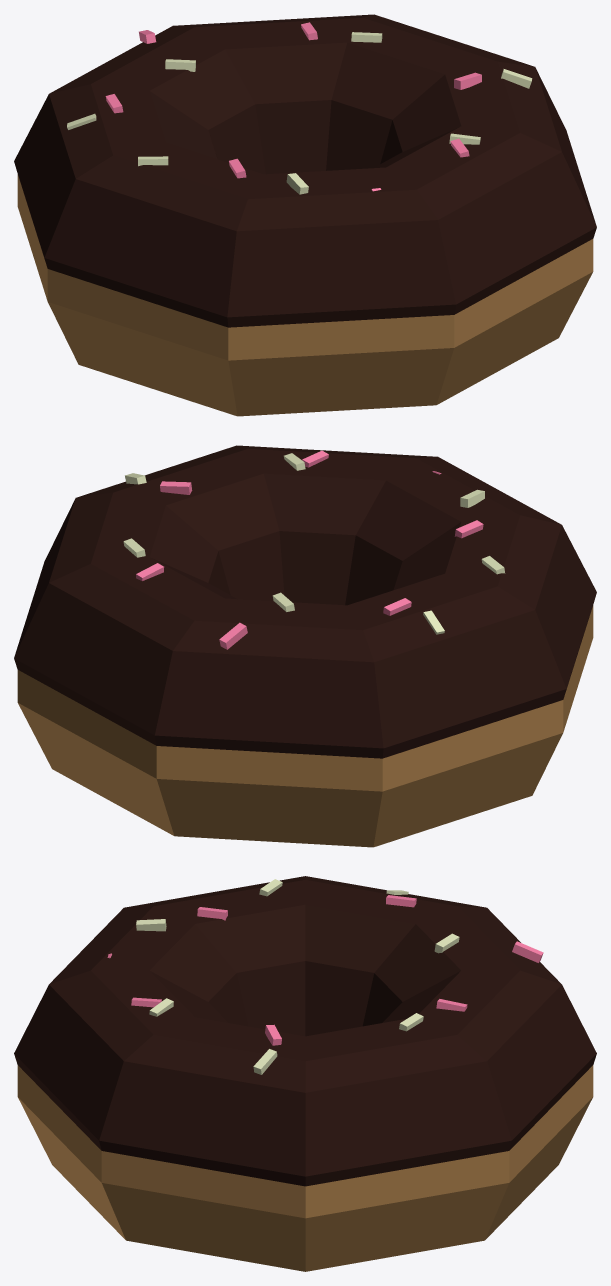
Rendered from doughnut_choc.fbx.
3 renders of one model, top to bottom at view 1: azimuth 30°, elevation 25°; view 2: azimuth 150°, elevation 25°; view 3: azimuth 270°, elevation 25°, orthographic. The views are drawn at different scales.
Parts seen in each view (by area): view 1: donut_ch; view 2: donut_ch; view 3: donut_ch.
Boxes of the visible parts, box(x1,y1,x2,y2) form: donut_ch: box(14, 14, 596, 416); donut_ch: box(14, 445, 596, 847); donut_ch: box(14, 876, 596, 1271).
Size of the model in its own units: 119 by 49 by 119.
